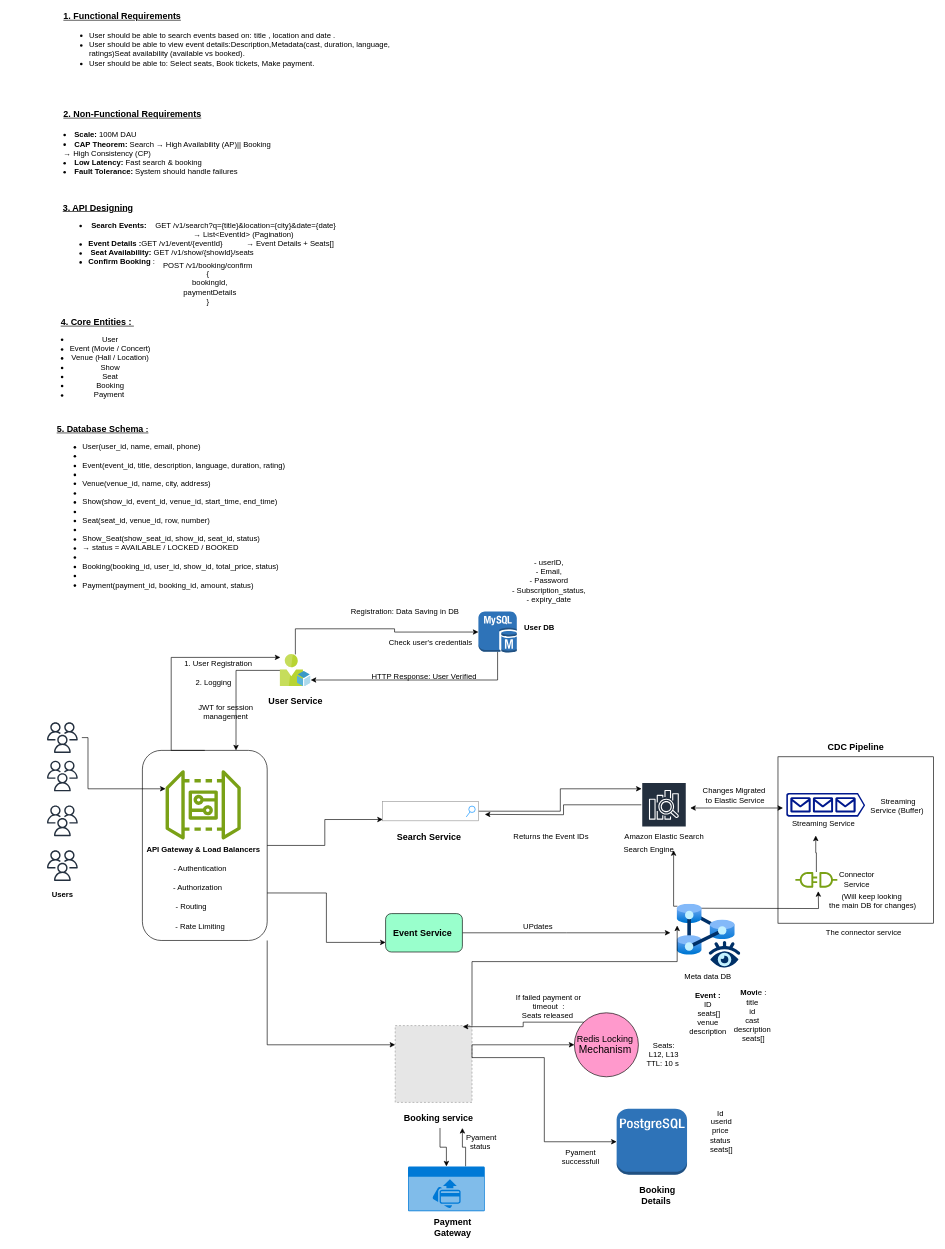
Image size: 945x1249. Some labels were removed from this diagram. Grey dashed boxes stand in for pictures. Here are the shapes that lost their labels. From the top down, the box of each, then its label:
(382, 801, 478, 821): Search
(408, 1166, 484, 1211): Payment
